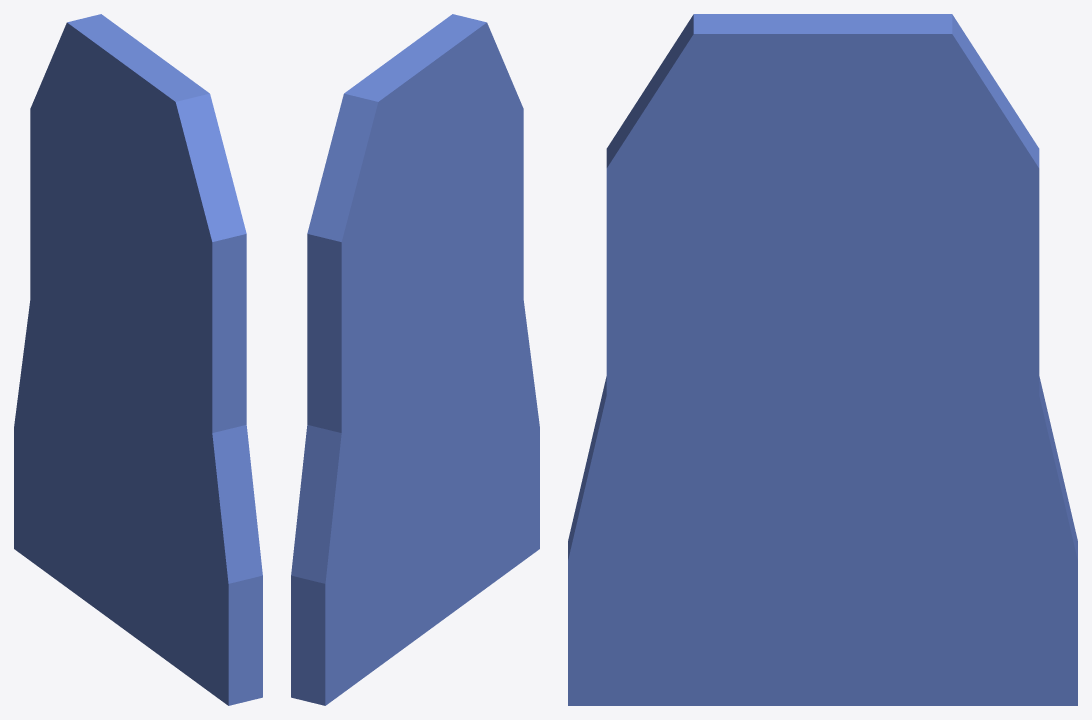
The model's file is 24-AncientDoor.fbx.
3 renders of one model, left to right at view 1: azimuth 30°, elevation 25°; view 2: azimuth 150°, elevation 25°; view 3: azimuth 270°, elevation 25°, orthographic. The views are drawn at different scales.
Visible parts, largest first — view 1: AncientDoor; view 2: AncientDoor; view 3: AncientDoor.
Part boxes in pixels (x1,y1,x2,y2): AncientDoor: (14, 14, 262, 705); AncientDoor: (291, 14, 539, 705); AncientDoor: (568, 14, 1077, 705).
Bounding box in the file's own units: 22.28 × 350 × 241.
